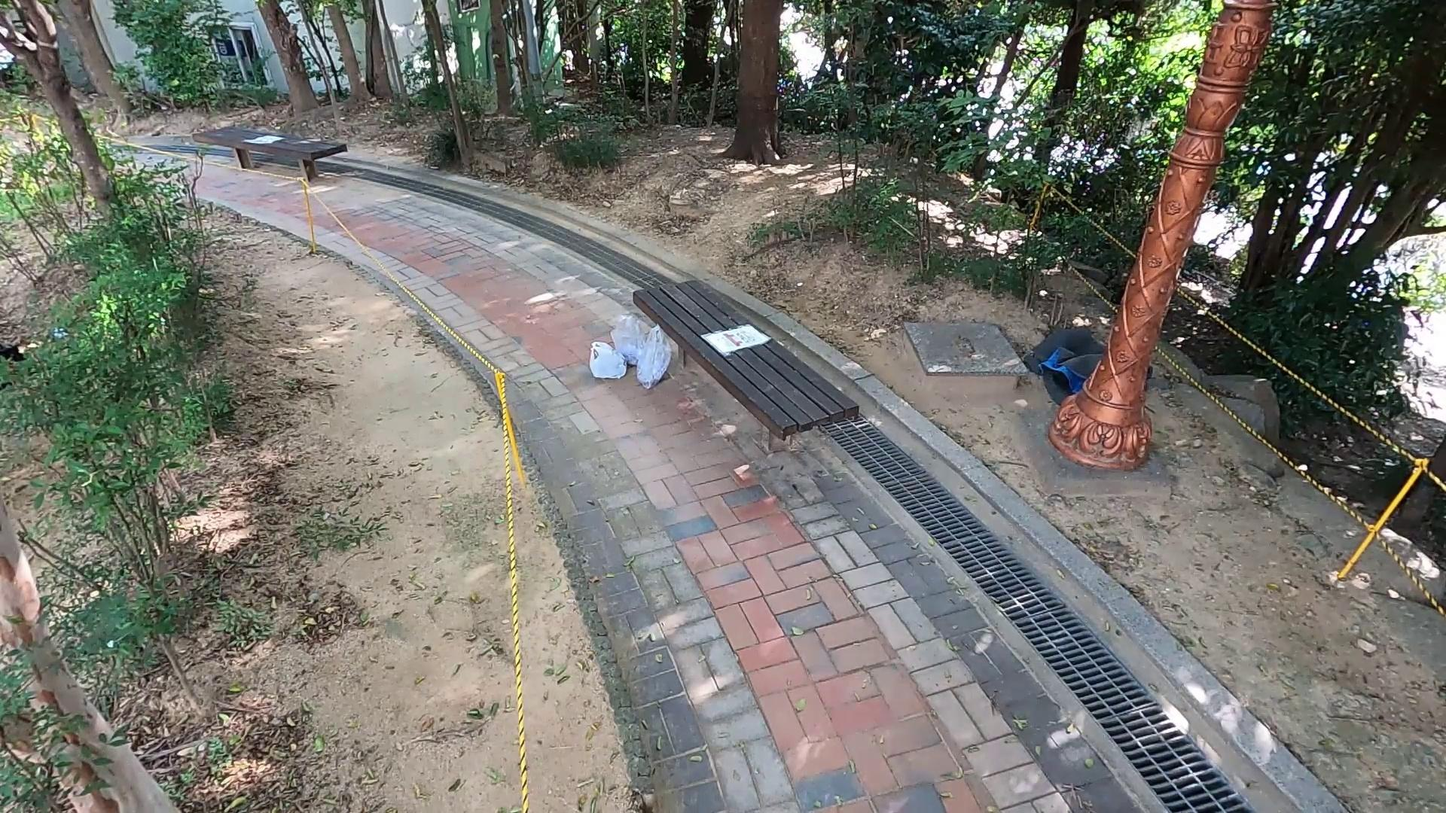trash: (1022, 324, 1113, 407), (607, 314, 658, 369), (632, 324, 673, 389), (588, 340, 626, 381)
